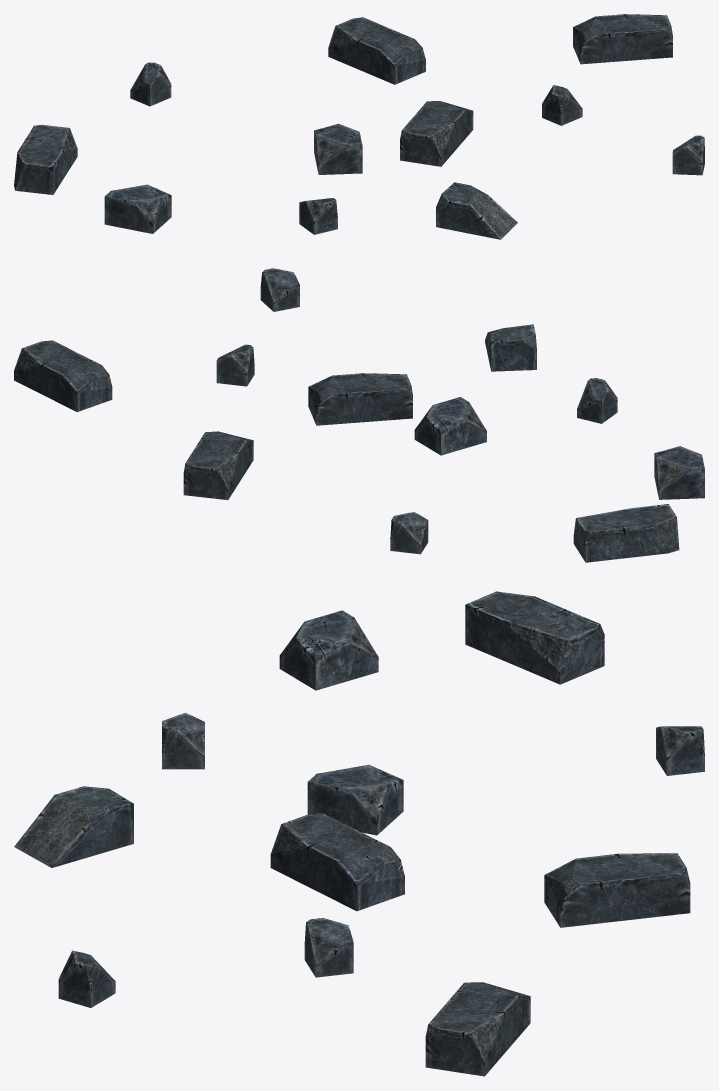
The model's file is Debris_1.FBX.
The picture shows the model from 3 angles, top to bottom: view 1: azimuth 30°, elevation 25°; view 2: azimuth 150°, elevation 25°; view 3: azimuth 270°, elevation 25°; orthographic projection. The views are drawn at different scales.
Parts seen in each view (by area): view 1: Object24; view 2: Object24; view 3: Object24.
Boxes of the visible parts, <box> form: Object24: <box>14,14,704,239</box>; Object24: <box>14,268,704,562</box>; Object24: <box>14,591,704,1076</box>.
Bounding box in the file's own units: 48.58 × 2.02 × 31.61.
